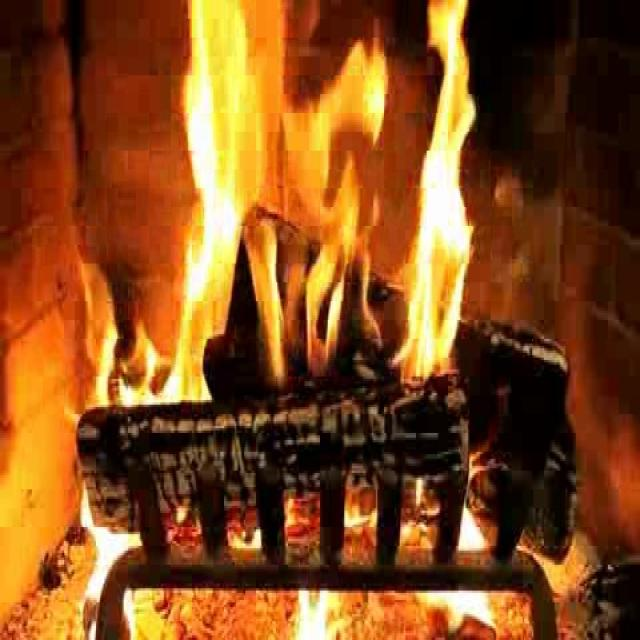fire: (168, 0, 479, 384)
